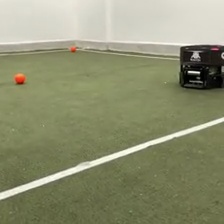ball: (13, 71, 26, 85), (69, 44, 78, 53)
robot: (177, 42, 224, 91)
